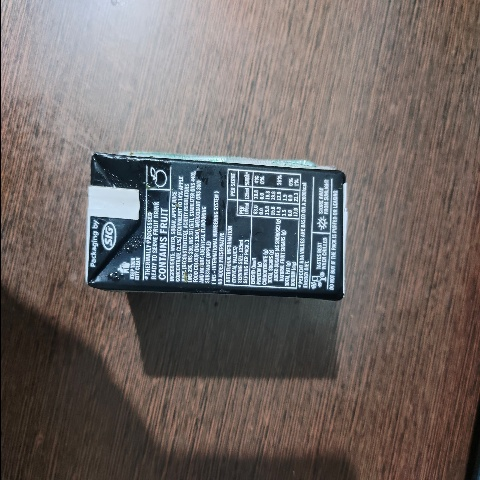appy: (74, 140, 365, 314)
